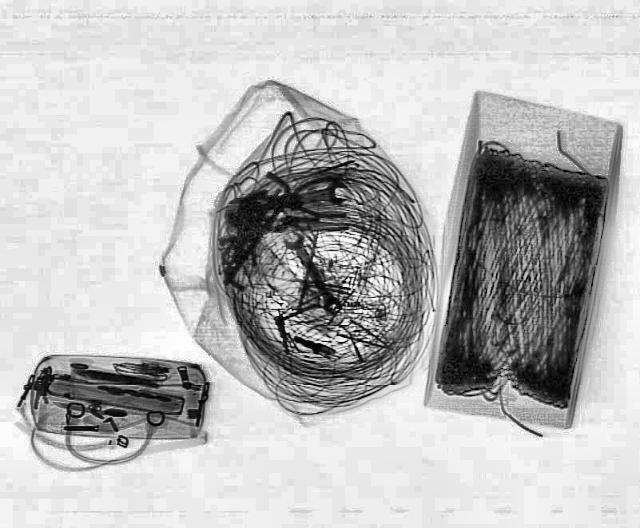Wrench: (278, 230, 348, 316), (283, 180, 349, 210)
